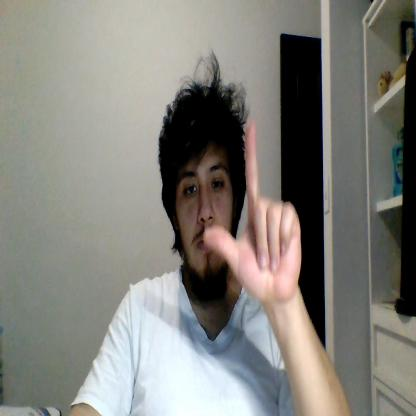L: (203, 122, 301, 304)
